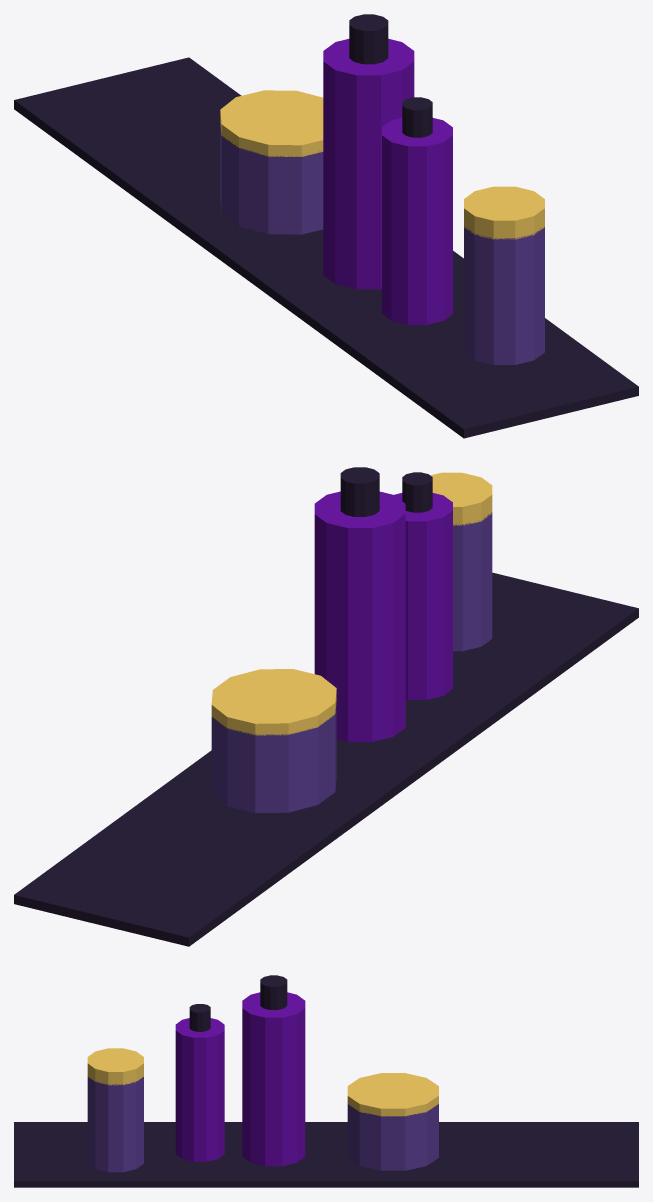
Rendered from prateleira_banheiro.gltf.
The picture shows the model from 3 angles, top to bottom: view 1: azimuth 30°, elevation 25°; view 2: azimuth 150°, elevation 25°; view 3: azimuth 270°, elevation 25°; orthographic projection. The views are drawn at different scales.
Parts seen in each view (by area): view 1: cylinder (×4), cuboid; view 2: cylinder (×4), cuboid; view 3: cylinder (×4), cuboid.
Boxes of the visible parts, x1=… form: cylinder (×4): x1=220, y1=14, x2=544, y2=364; cuboid: x1=14, y1=57, x2=638, y2=438; cylinder (×4): x1=211, y1=467, x2=492, y2=813; cuboid: x1=14, y1=572, x2=638, y2=946; cylinder (×4): x1=87, y1=975, x2=438, y2=1172; cuboid: x1=14, y1=1122, x2=638, y2=1187.
Size of the model in its own units: 0.25 by 0.35 by 1.11.
Materials: 5 (4 with a texture image).
